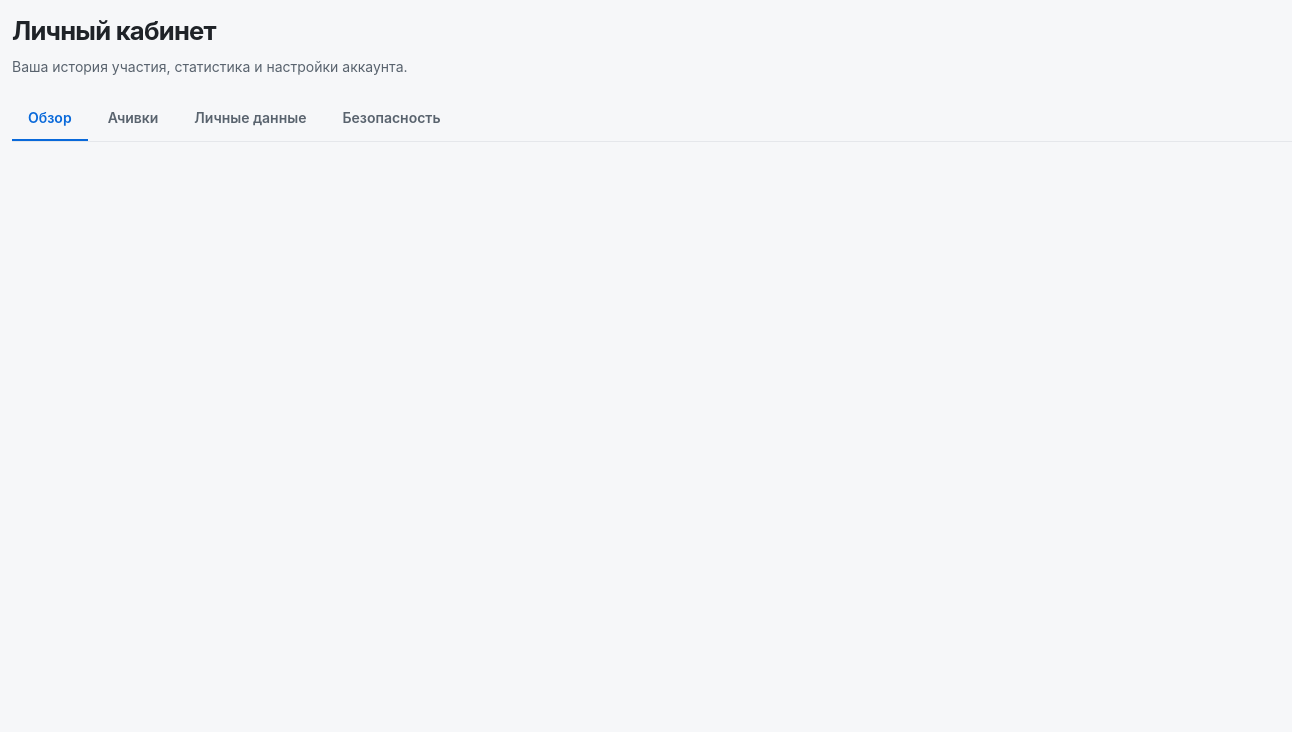
Test: announces a successful save as a success status and updates the session
The width and height of the screenshot is (1292, 732).
Click the button "Личные данные".
click(250, 119)  # box [178,97,322,141]
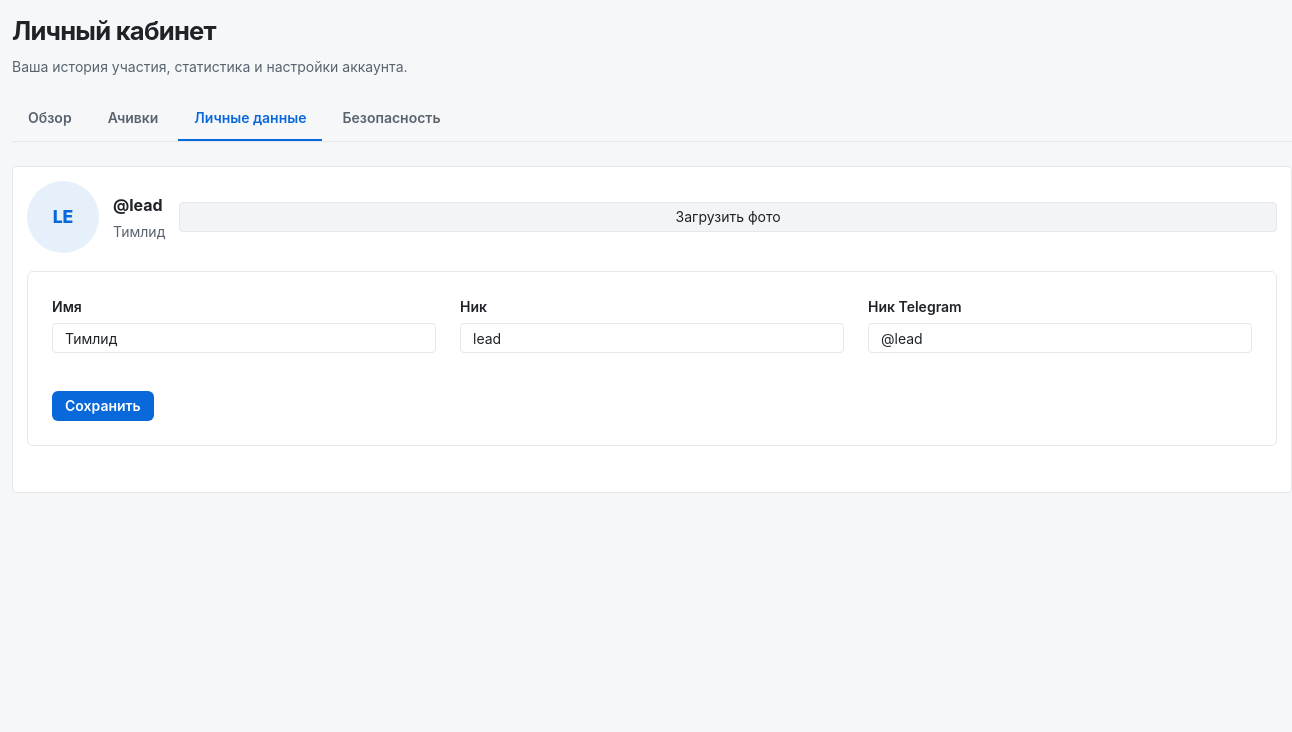
Replace the text in the field labelled "Имя" with "Новое имя" at (244, 338), box [52,323,436,353]
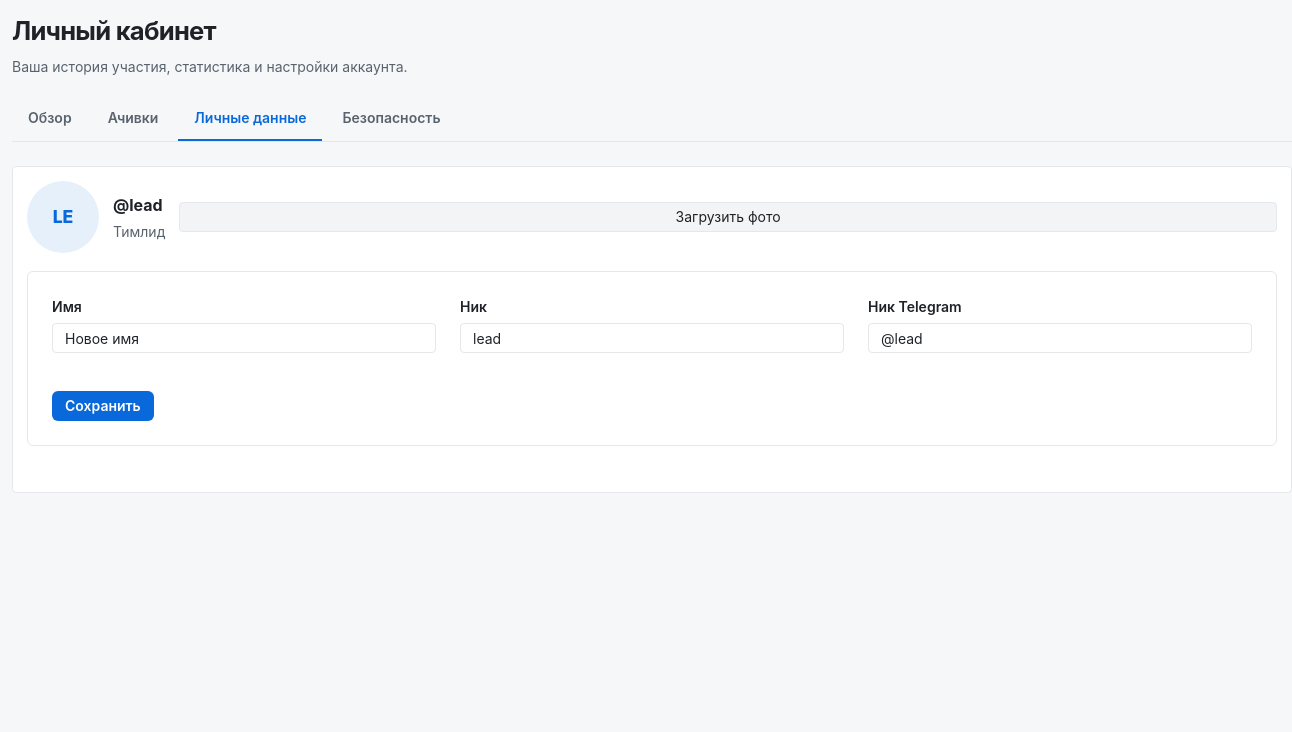
Click the button "Сохранить".
click(103, 406)  # box [52,391,154,421]
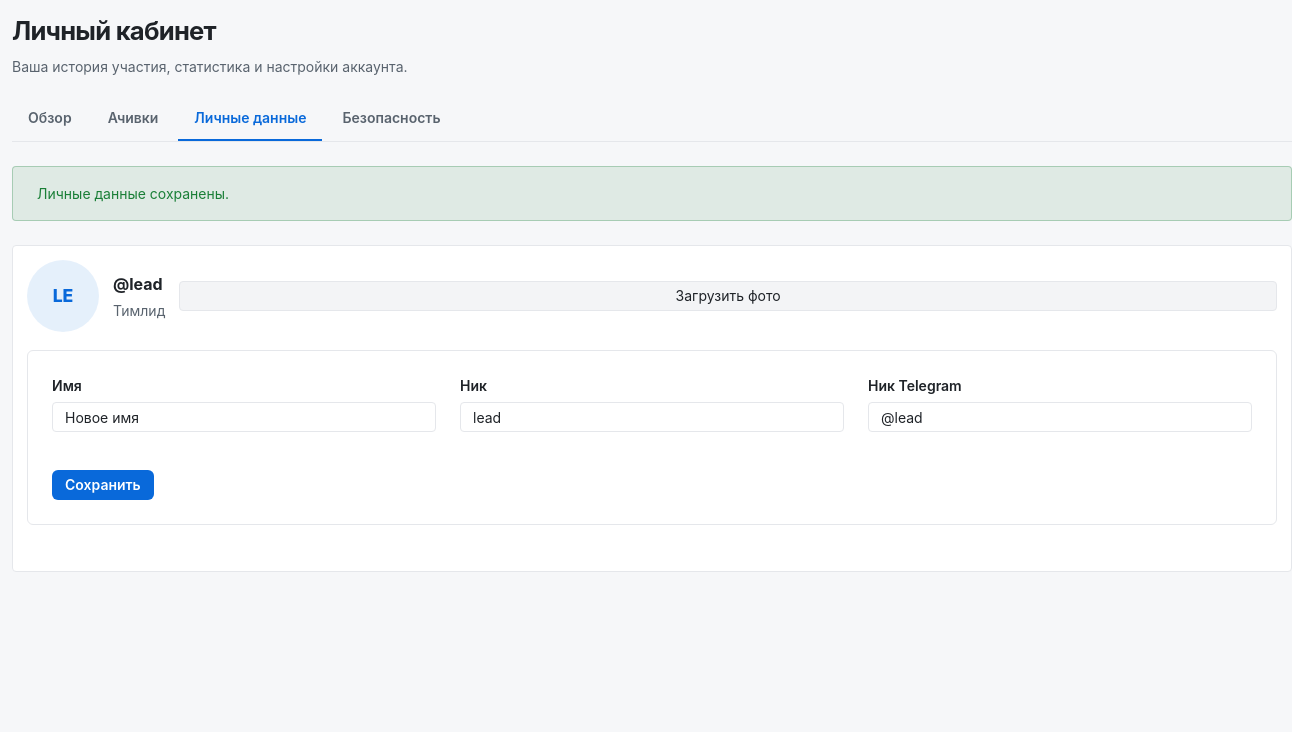
Check: the message reads "Личные данные сохранены.", box [37,185,229,202]
